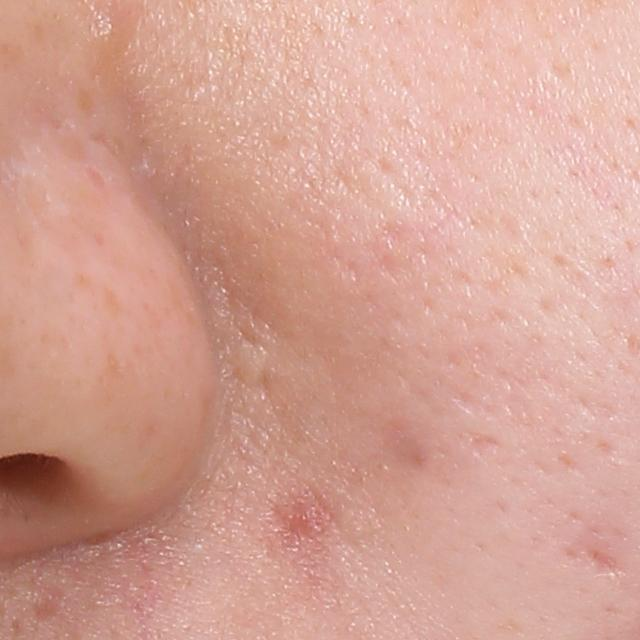atrophic_scar: (577, 545, 628, 589), (468, 432, 495, 455)
comedo: (99, 13, 123, 46)
